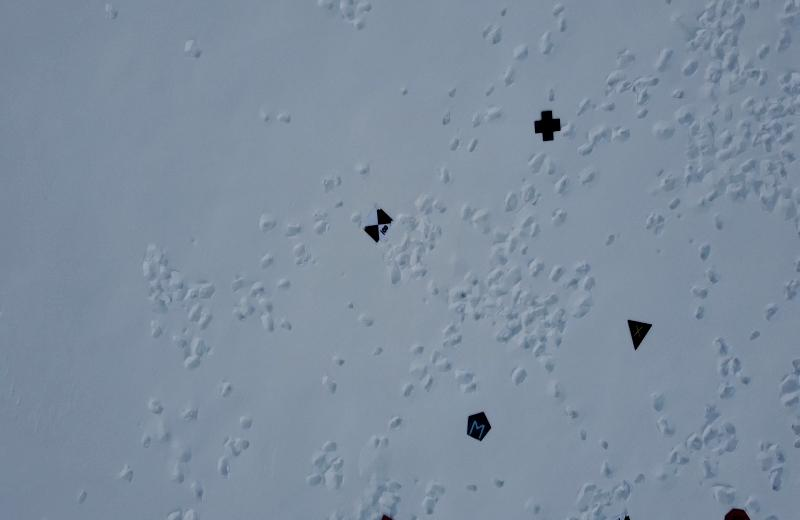Cross: (533, 108, 565, 143)
Octagon: (720, 502, 752, 520)
Pentagon: (462, 409, 495, 445)
Triangle: (623, 310, 657, 352)
